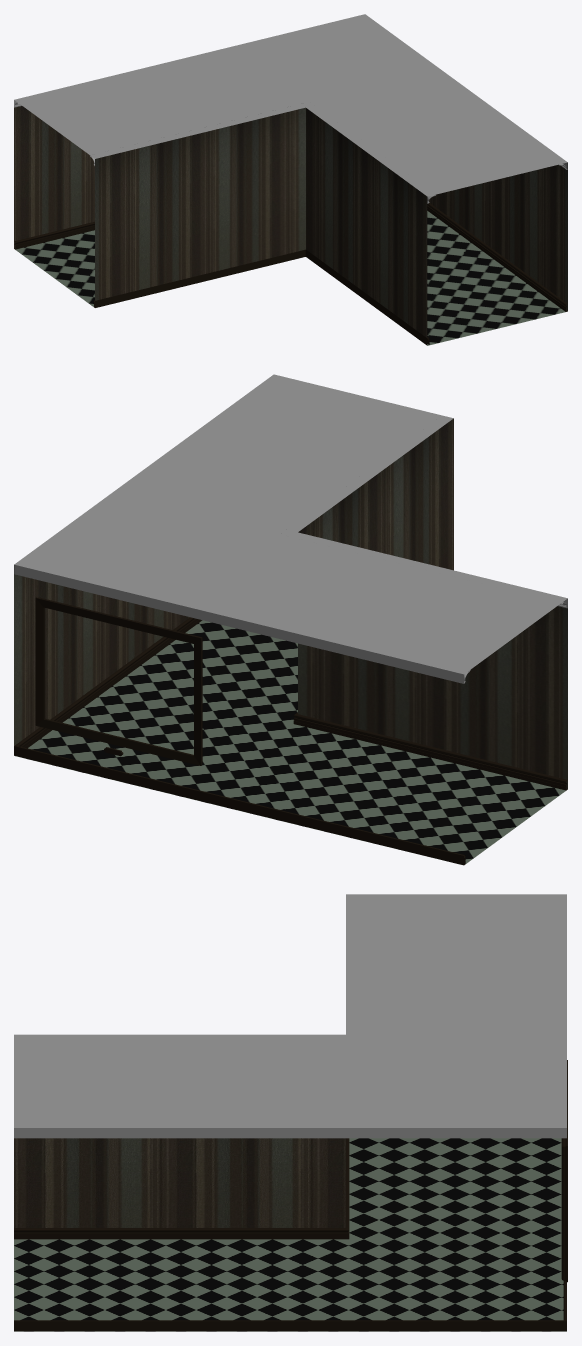
File: room.obj
3 views of the same model, one above another, from view 1: azimuth 30°, elevation 25°; view 2: azimuth 150°, elevation 25°; view 3: azimuth 270°, elevation 25° (orthographic). The views are drawn at different scales.
Visible parts, largest first — view 1: Box004, Object002, Object001, Line007, Line006; view 2: Object002, Box004, Object001, Line006, Line002, Line010, Line007; view 3: Object002, Object001, Box004, Line006, Line010, Line007, Line002.
Boxes of the visible parts, bbox=[...] form: Box004: bbox=[14, 106, 567, 337]; Object002: bbox=[14, 14, 567, 196]; Object001: bbox=[15, 211, 565, 345]; Line007: bbox=[94, 249, 429, 345]; Line006: bbox=[14, 203, 567, 311]; Object002: bbox=[14, 374, 567, 674]; Box004: bbox=[14, 418, 567, 789]; Object001: bbox=[15, 620, 565, 863]; Line006: bbox=[14, 617, 465, 865]; Line002: bbox=[35, 597, 202, 765]; Line010: bbox=[14, 564, 567, 683]; Line007: bbox=[293, 712, 567, 790]; Object002: bbox=[14, 894, 566, 1127]; Object001: bbox=[14, 1138, 566, 1331]; Box004: bbox=[14, 1138, 345, 1227]; Line006: bbox=[14, 1280, 566, 1331]; Line010: bbox=[14, 1128, 566, 1138]; Line007: bbox=[14, 1138, 349, 1239]; Line002: bbox=[561, 1060, 567, 1282].
Bounding box in the file's own units: 50.01 × 20.32 × 50.08.
